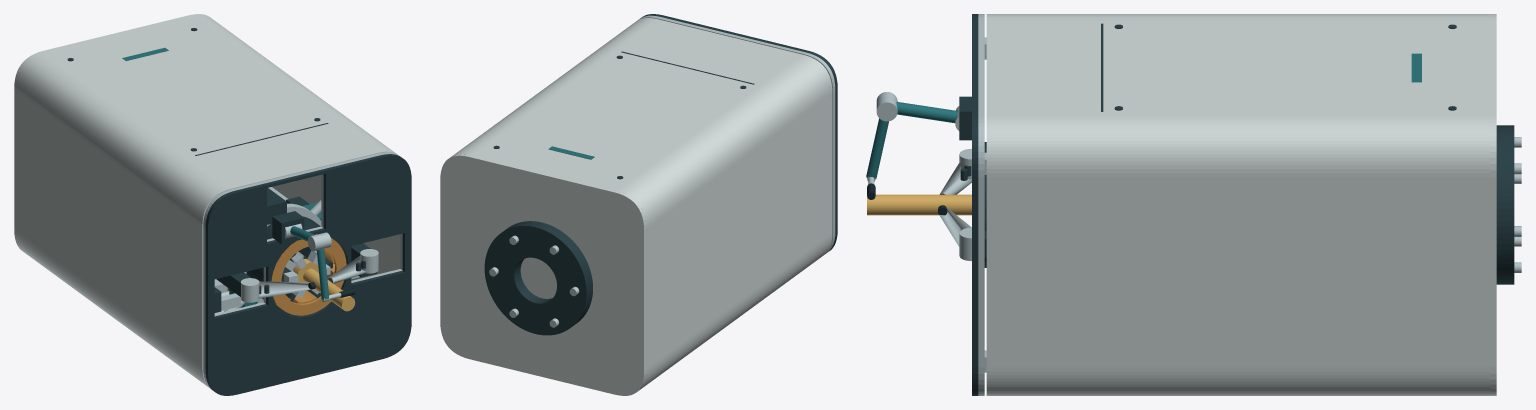
The model's file is m10-integrated-review.glb.
3 views of the same model, side by side, from view 1: azimuth 30°, elevation 25°; view 2: azimuth 150°, elevation 25°; view 3: azimuth 270°, elevation 25° (orthographic). The views are drawn at different scales.
Visible parts, largest first — view 1: hollow-perimeter-cover, front-plate-with-working-ports, common-front-structural-plate, chuck-front-rim, rear-service-cap, straight-tapered-finger (×2), held-bolt, supported-fold-hinge (×2), thumb-base-mount, stationary-chuck-bearing-seat, thumb-drive-housing, thumb-distal (+2 smaller); view 2: hollow-perimeter-cover, rear-service-cap, robot-mount-flange, common-front-structural-plate, front-plate-with-working-ports; view 3: hollow-perimeter-cover, robot-mount-flange, front-plate-with-working-ports, rear-service-cap, common-front-structural-plate, held-bolt, thumb-proximal, thumb-distal, thumb-base-mount, thumb-joint-1.
Boxes of the visible parts, x1,y1,x2,y2 form: hollow-perimeter-cover: (16, 15, 400, 387); front-plate-with-working-ports: (205, 154, 411, 395); common-front-structural-plate: (203, 152, 402, 389); chuck-front-rim: (271, 234, 346, 315); rear-service-cap: (14, 14, 210, 250); straight-tapered-finger (×2): (259, 256, 368, 298); held-bolt: (293, 258, 355, 311); supported-fold-hinge (×2): (241, 249, 378, 302); thumb-base-mount: (272, 211, 304, 244); stationary-chuck-bearing-seat: (246, 216, 345, 315); thumb-drive-housing: (267, 188, 286, 224); thumb-distal: (316, 249, 328, 299); hollow-perimeter-cover: (452, 18, 832, 389); rear-service-cap: (440, 154, 646, 395); robot-mount-flange: (484, 221, 592, 335); common-front-structural-plate: (638, 15, 835, 253); front-plate-with-working-ports: (641, 14, 837, 250); hollow-perimeter-cover: (986, 14, 1490, 395); robot-mount-flange: (1496, 125, 1514, 284); front-plate-with-working-ports: (972, 14, 978, 395); rear-service-cap: (1490, 14, 1496, 395); common-front-structural-plate: (978, 14, 984, 395); held-bolt: (867, 194, 971, 215); thumb-proximal: (896, 102, 958, 123); thumb-distal: (866, 118, 888, 178); thumb-base-mount: (959, 96, 971, 140); thumb-joint-1: (876, 92, 897, 121).
Bounding box in the file's own units: 0.152 × 0.145 × 0.3125.
